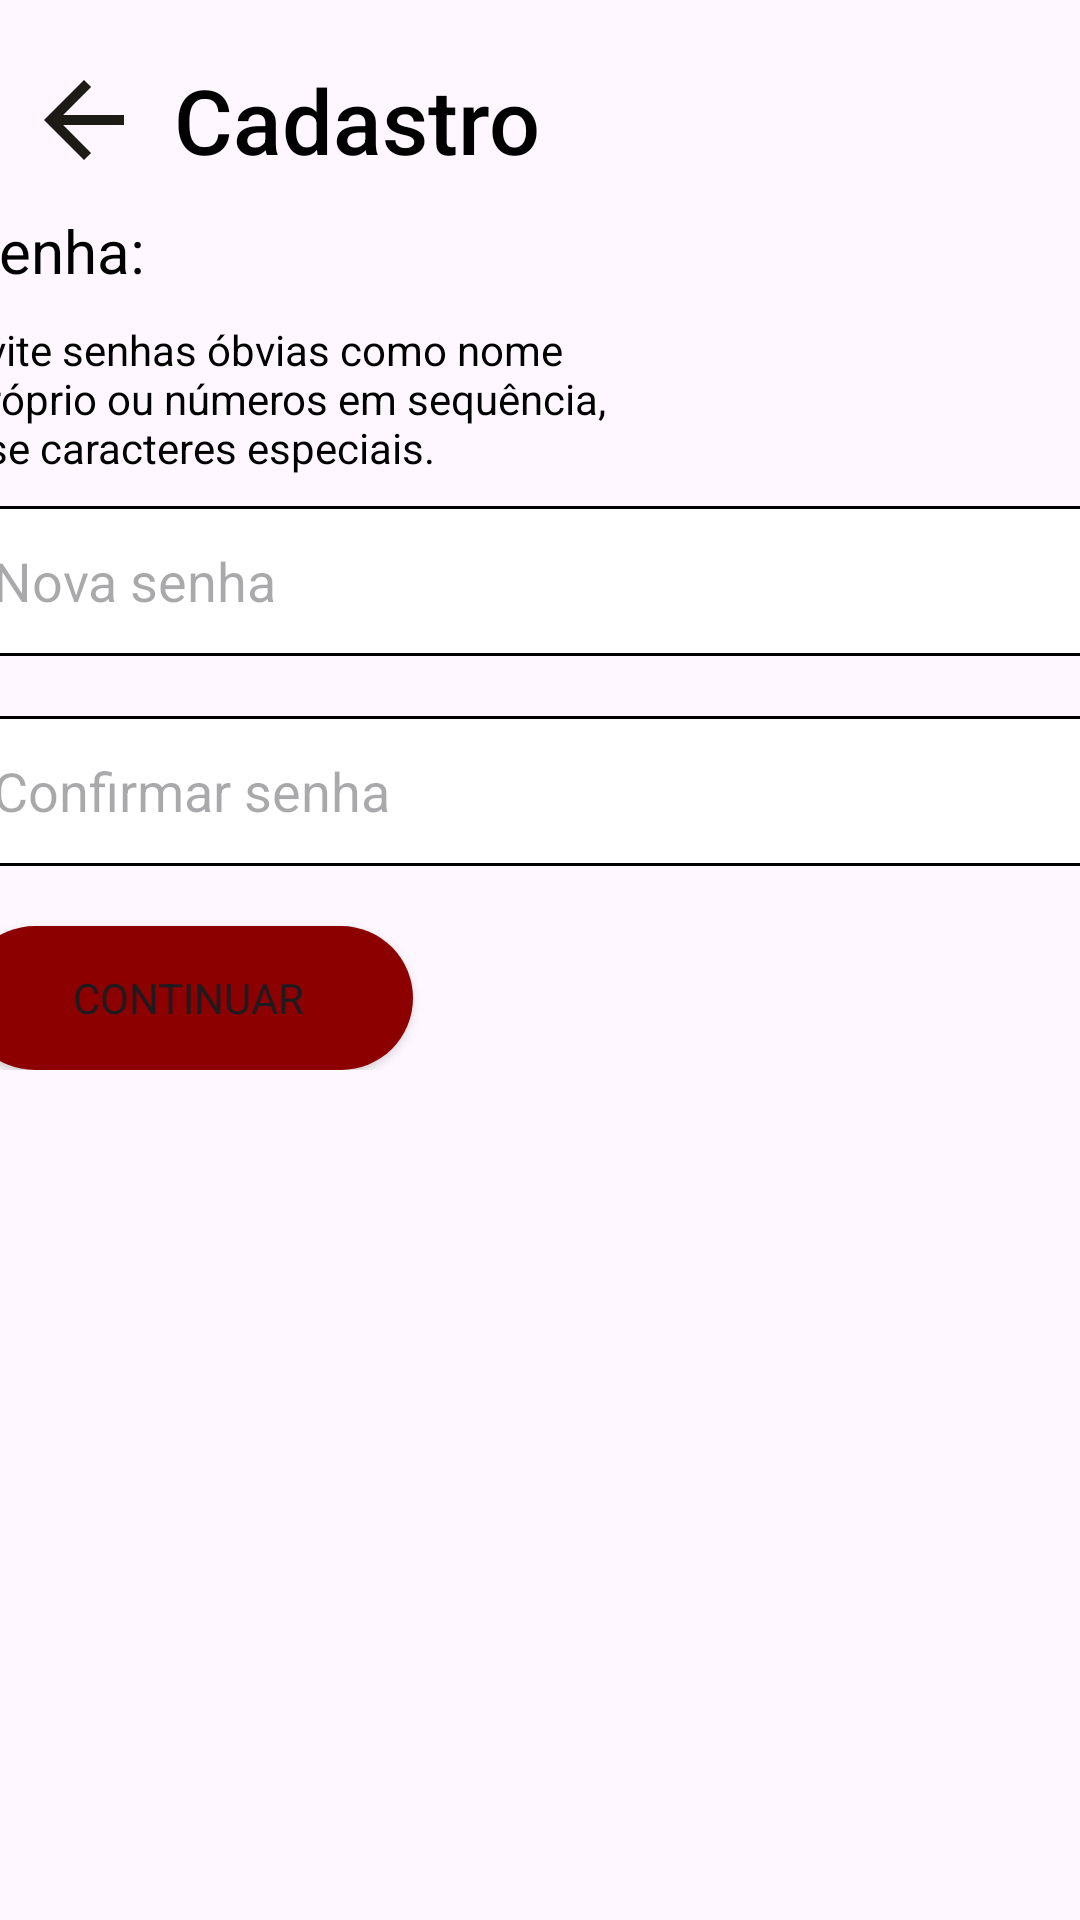

Screen size 1080 × 1920. Icon name, then its box in pixels as (x1, y1, x2, y2):
seta preta voltar: (44, 80, 124, 160)
